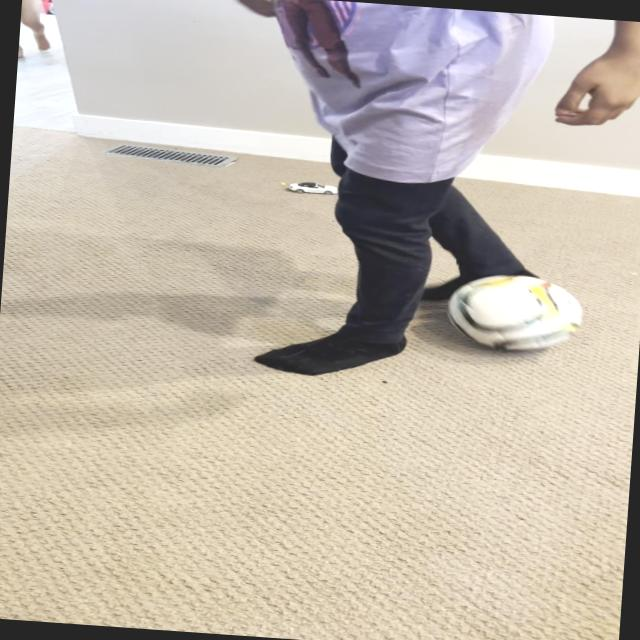Soccer Ball: (446, 270, 588, 354)
